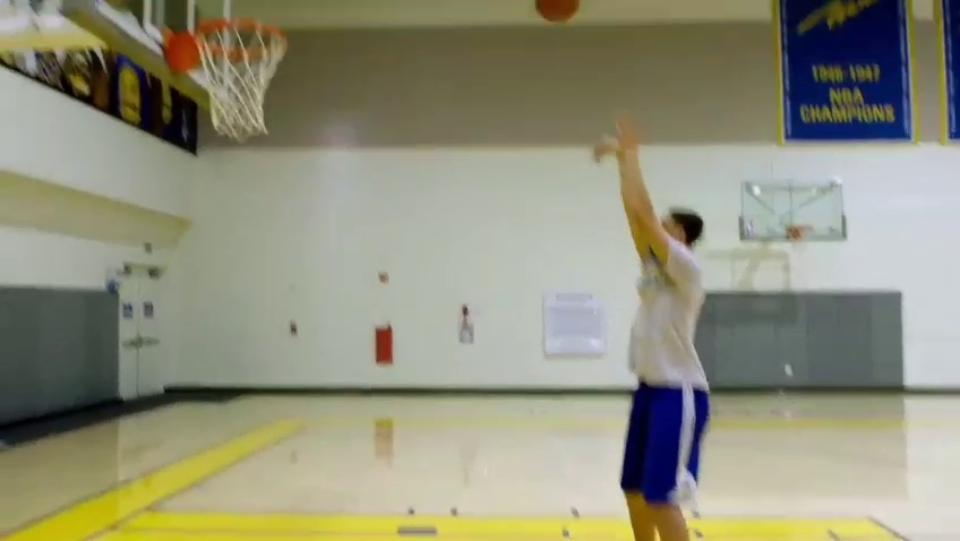hoop: (188, 16, 285, 70), (779, 223, 814, 241)
